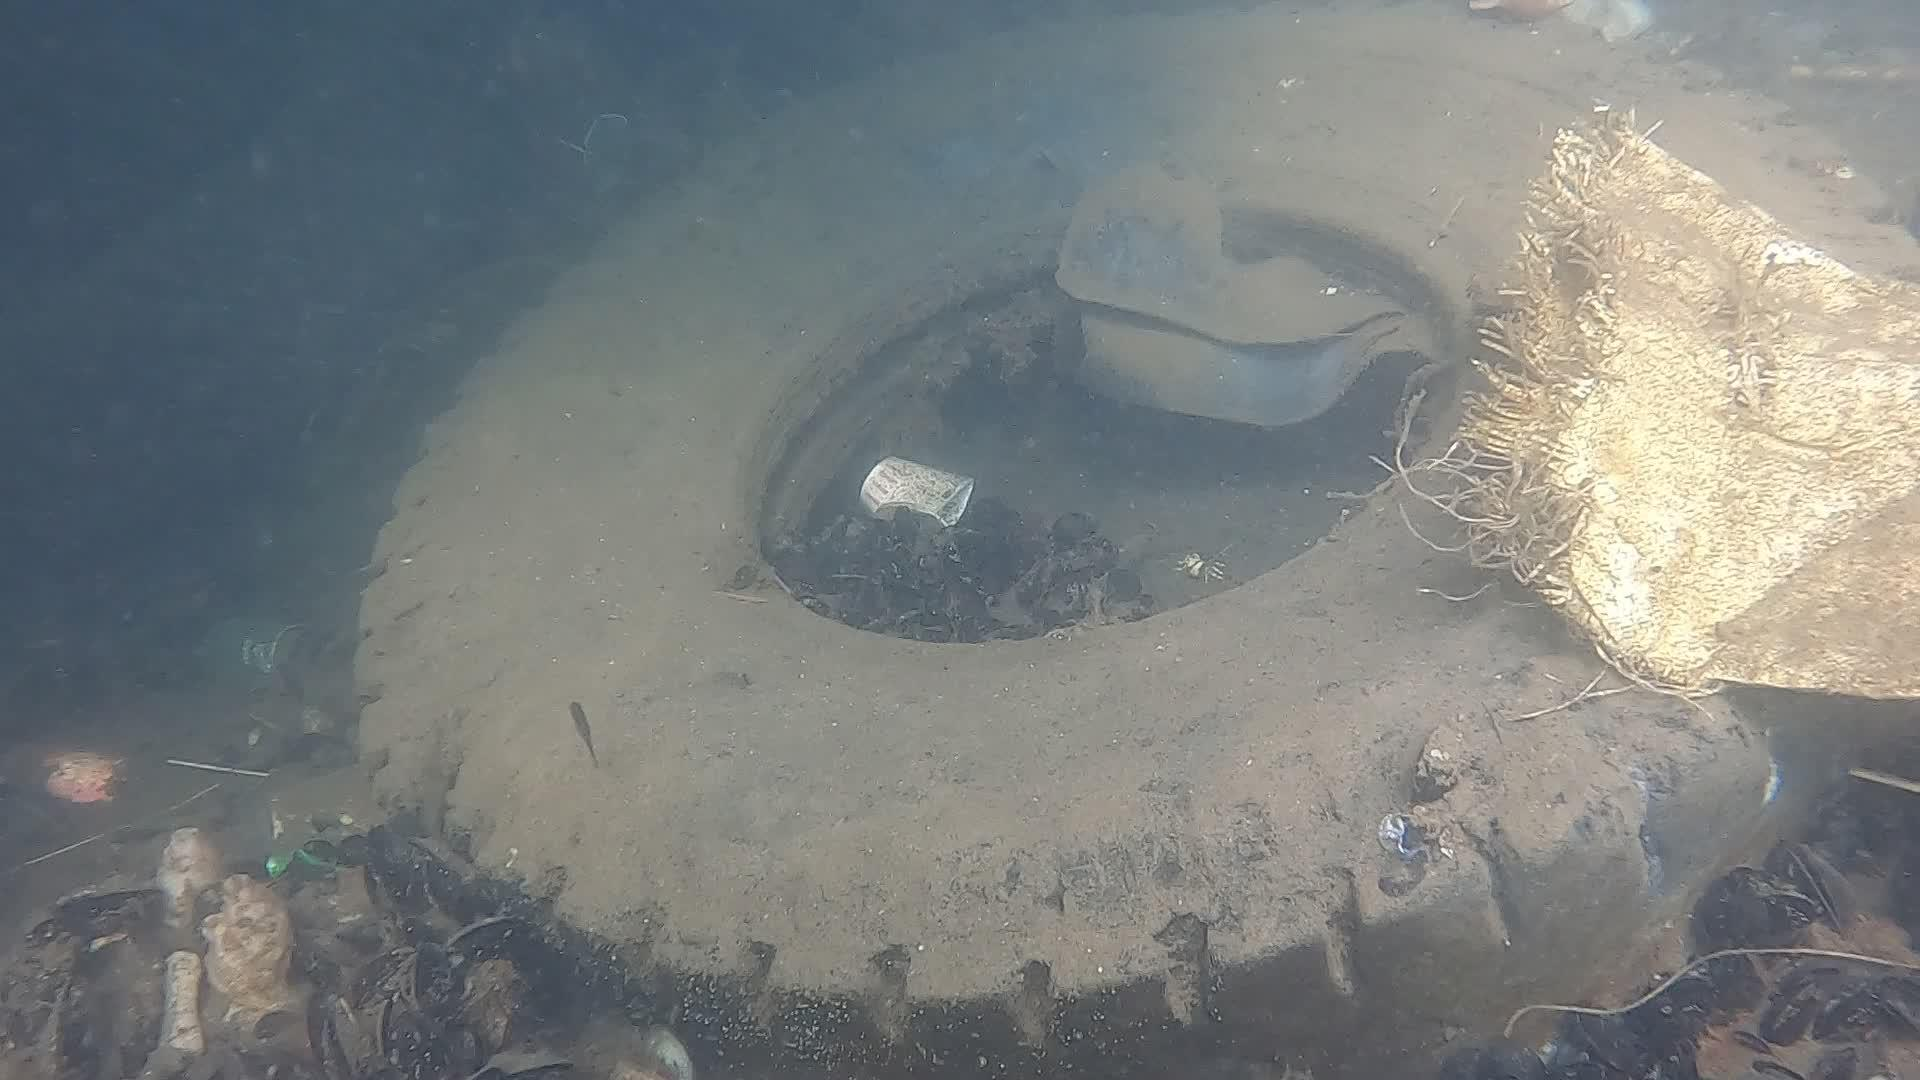tire: (345, 5, 1920, 1079)
